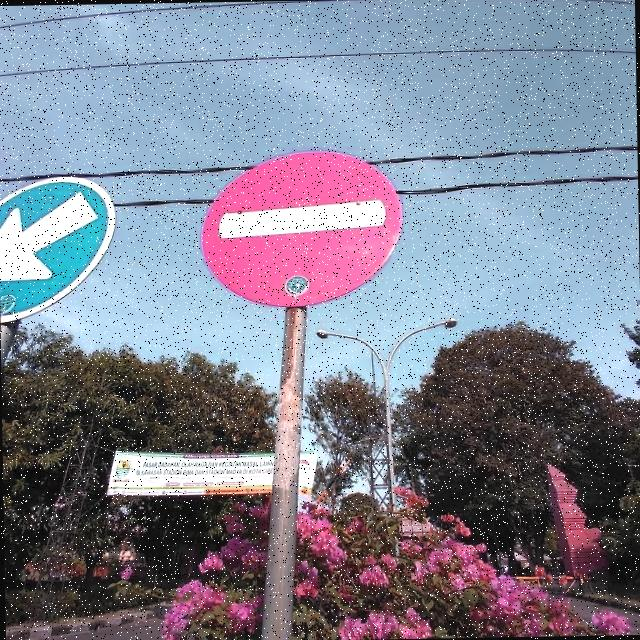Zakaz wjazdu: (200, 148, 403, 305)
